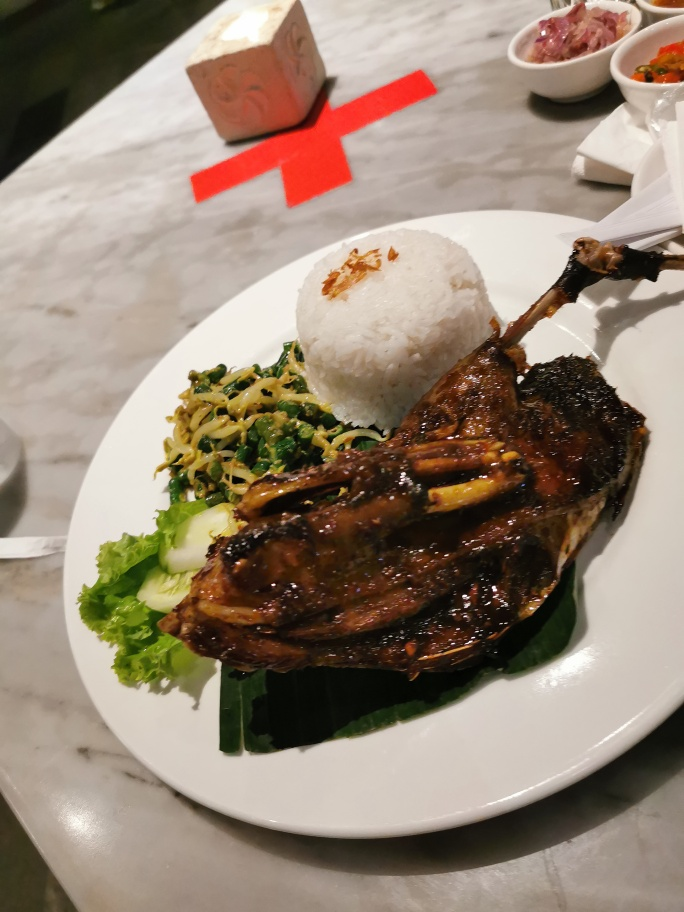bebek bakar: (149, 234, 684, 677)
nasi putih: (273, 218, 508, 428)
